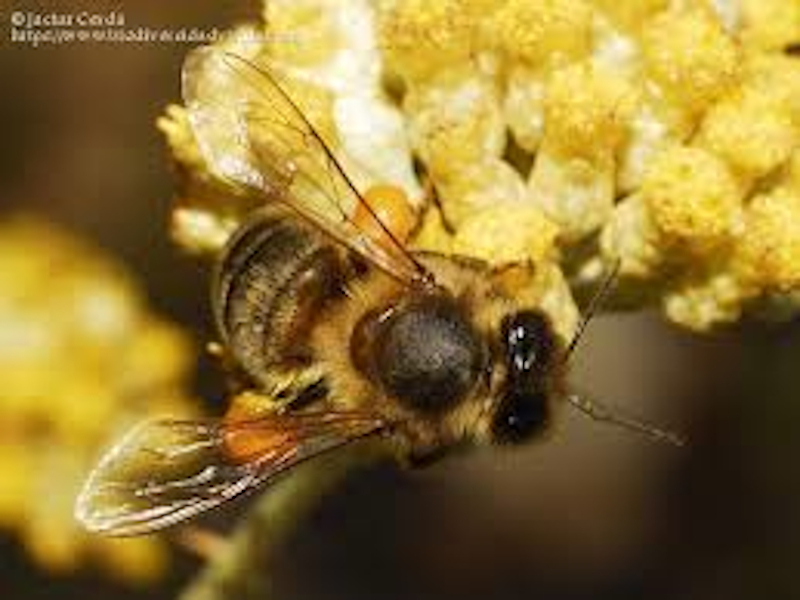abeja: (67, 23, 650, 527)
